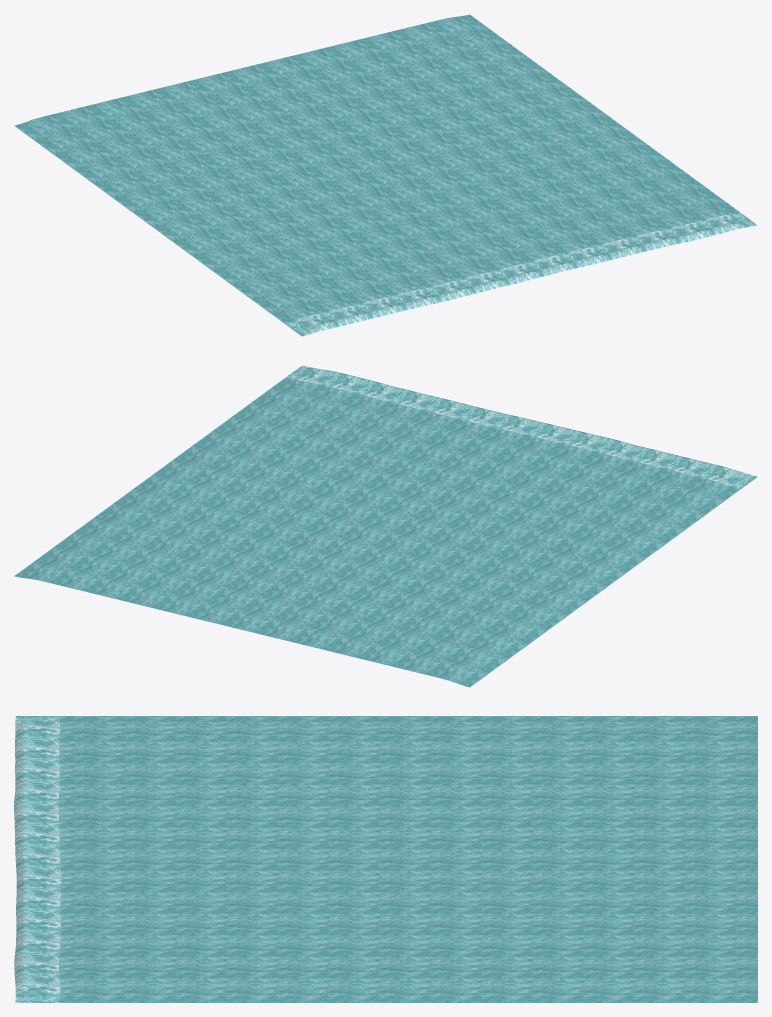
File: surge.glb
The picture shows the model from 3 angles, top to bottom: view 1: azimuth 30°, elevation 25°; view 2: azimuth 150°, elevation 25°; view 3: azimuth 270°, elevation 25°; orthographic projection. The views are drawn at different scales.
Size of the model in its own units: 640 by 6 by 702.
Materials: 2 (2 with a texture image).
